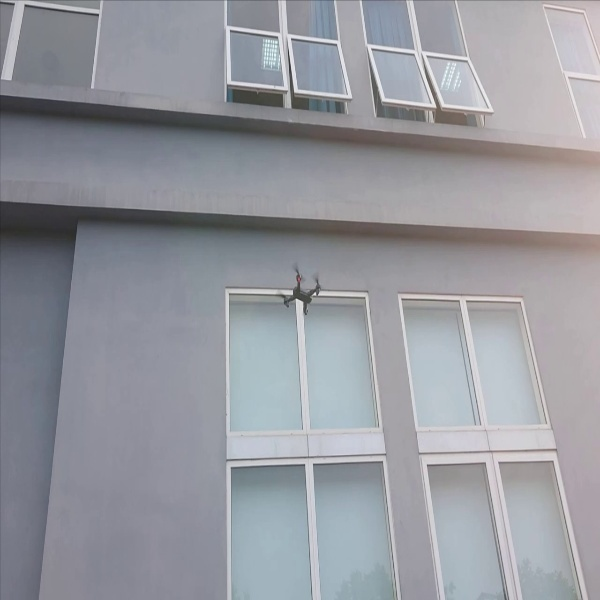drone: (274, 256, 326, 318)
